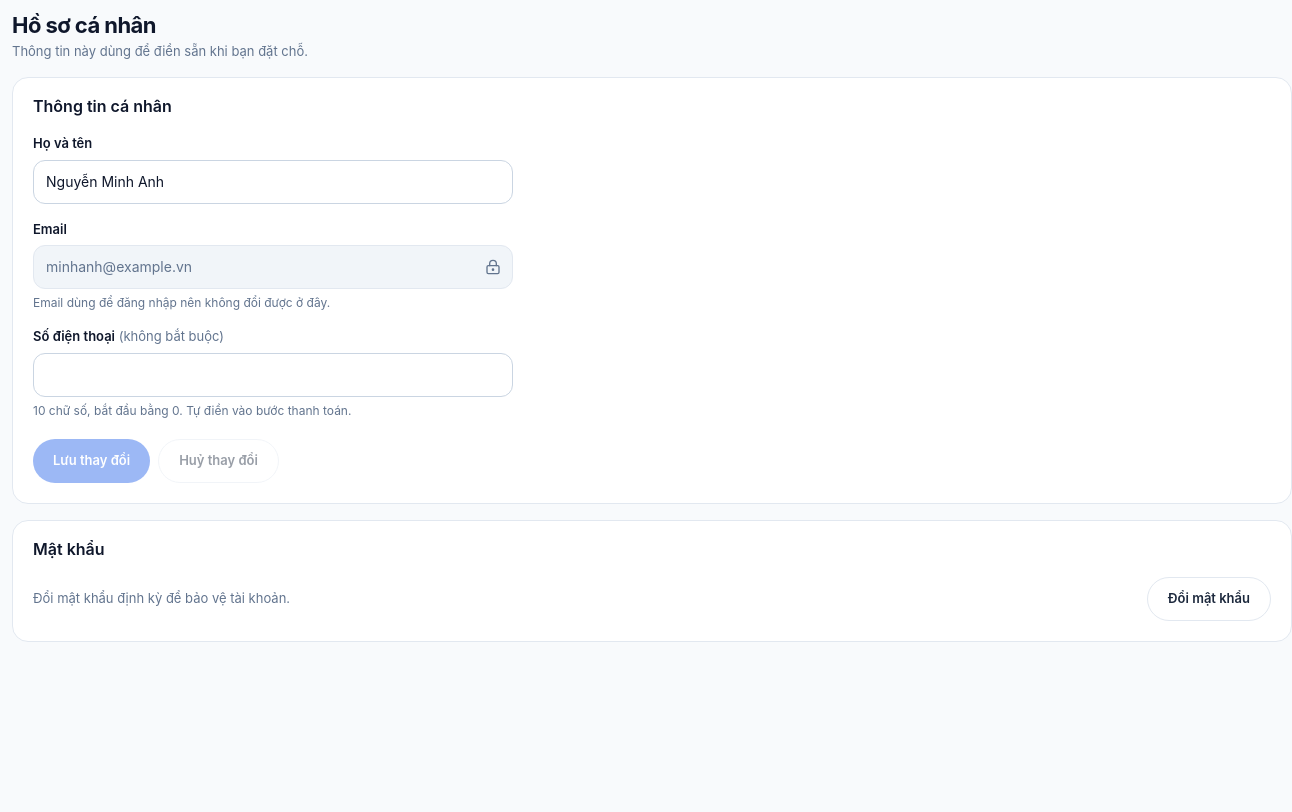
Test: ProfileView — hồ sơ cá nhân › lỗi khi lưu hiện thông báo rõ và giữ nguyên nội dung đang nhập (0)
Replace the text in the field labelled "Họ và tên" with "Tên Mới": (273, 182) top-left (33, 160), bottom-right (513, 204)
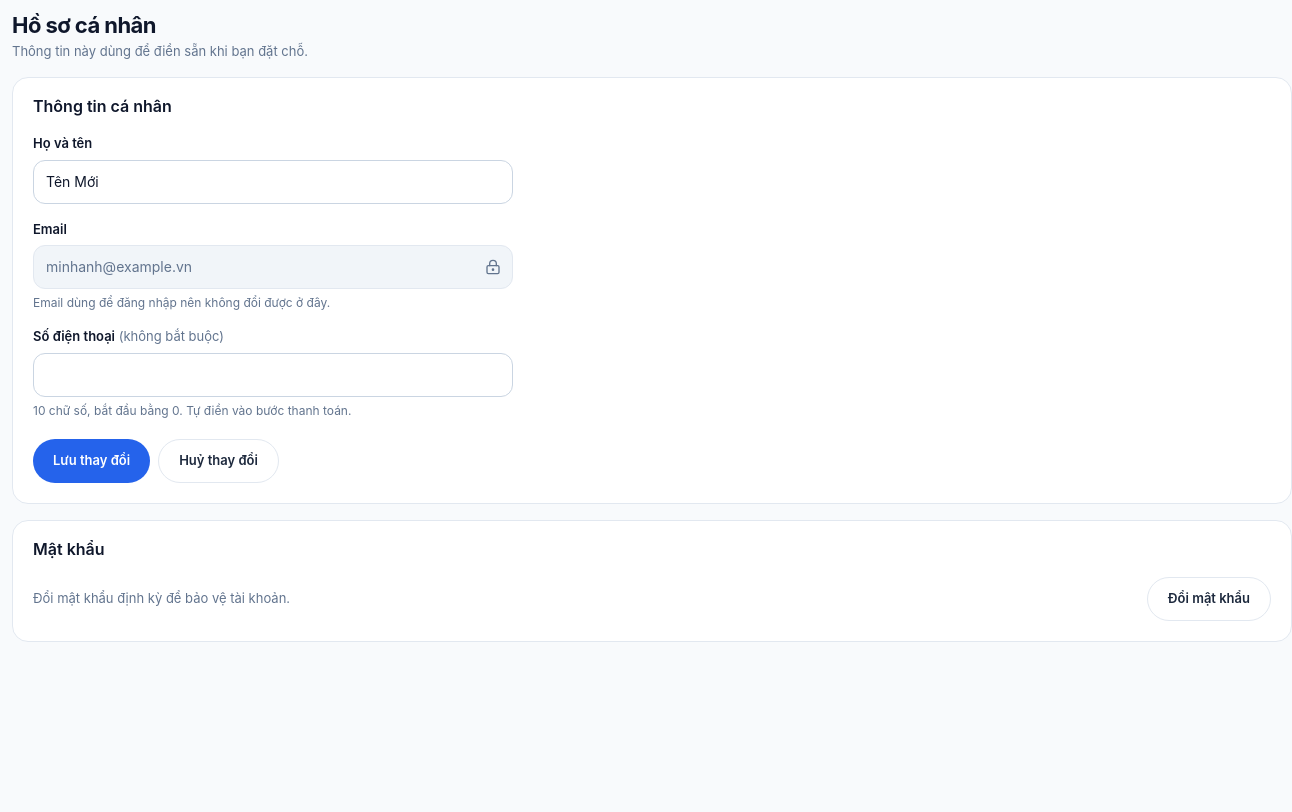
Click the button "Lưu thay đổi": (92, 460) top-left (33, 438), bottom-right (150, 482)
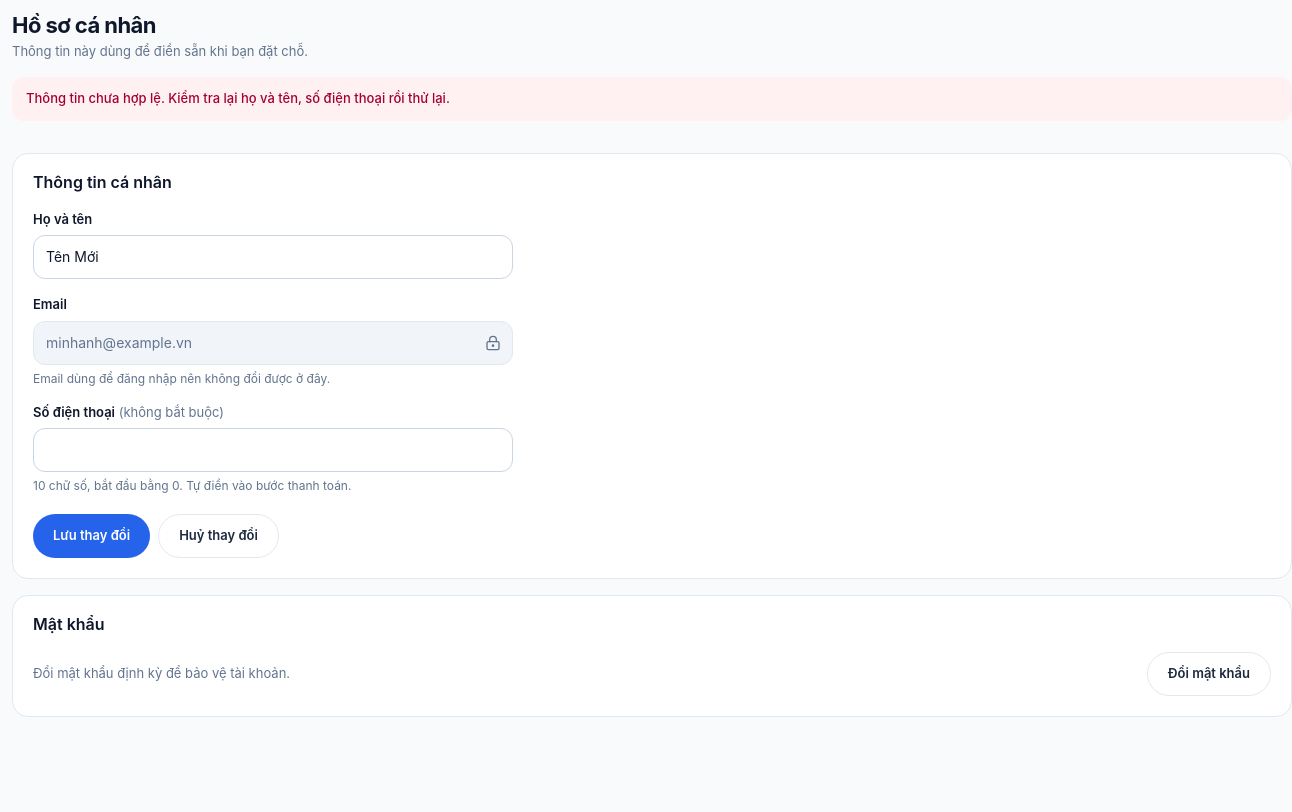
Expected: the button "Lưu thay đổi" is enabled, top-left (33, 514), bottom-right (150, 558)
Expected: the message shows "chưa hợp lệ", top-left (26, 90), bottom-right (450, 106)
